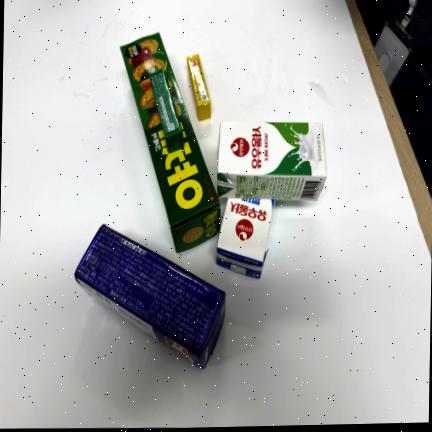cracker_ace: (75, 224, 225, 369)
cracker_vege: (120, 33, 220, 252)
gum_green: (147, 67, 183, 152)
gum_yellow: (186, 54, 211, 120)
milk_blue: (216, 198, 274, 278)
milk_green: (217, 122, 326, 200)
